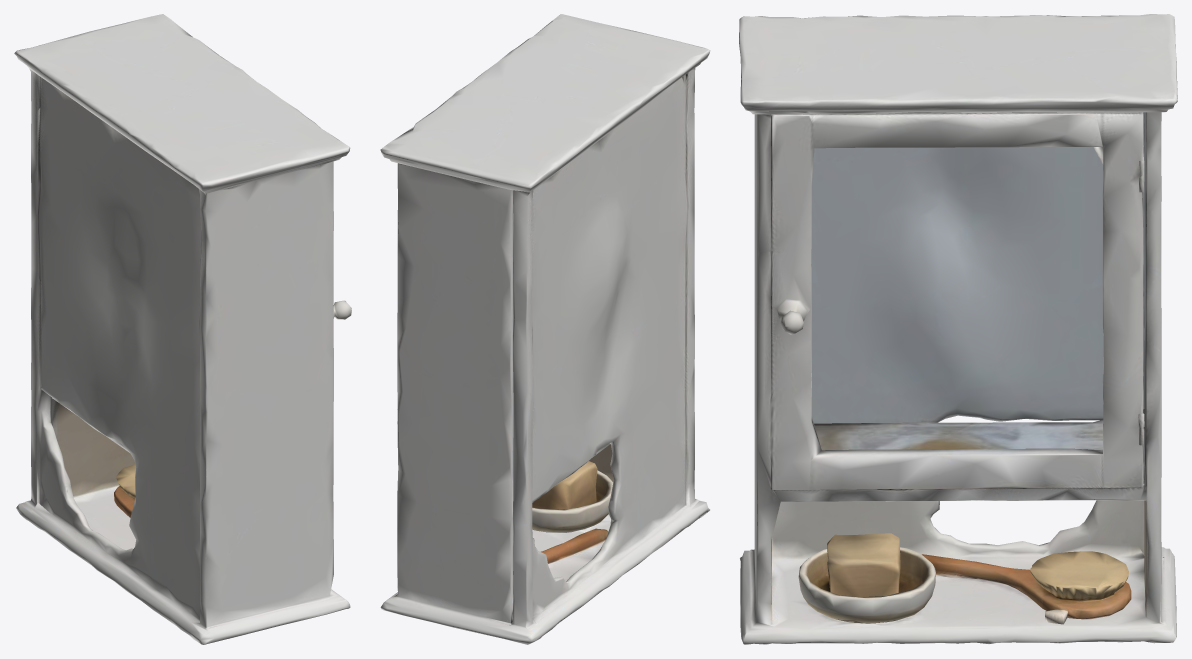
The model's file is b_cabinet.glb.
3 views of the same model, side by side, from view 1: azimuth 30°, elevation 25°; view 2: azimuth 150°, elevation 25°; view 3: azimuth 270°, elevation 25° (orthographic). The views are drawn at different scales.
Parts seen in each view (by area): view 1: tripo_node_dadab918-e607-47fa-ba9c-d2c48a2373ea; view 2: tripo_node_dadab918-e607-47fa-ba9c-d2c48a2373ea; view 3: tripo_node_dadab918-e607-47fa-ba9c-d2c48a2373ea.
Part boxes in pixels (left/top/right/bottom): tripo_node_dadab918-e607-47fa-ba9c-d2c48a2373ea: left=14, top=14, right=351, bottom=644; tripo_node_dadab918-e607-47fa-ba9c-d2c48a2373ea: left=380, top=14, right=710, bottom=644; tripo_node_dadab918-e607-47fa-ba9c-d2c48a2373ea: left=739, top=14, right=1177, bottom=644.
Size of the model in its own units: 0.3947 by 1 by 0.7306.
1 material, 1 textured.
